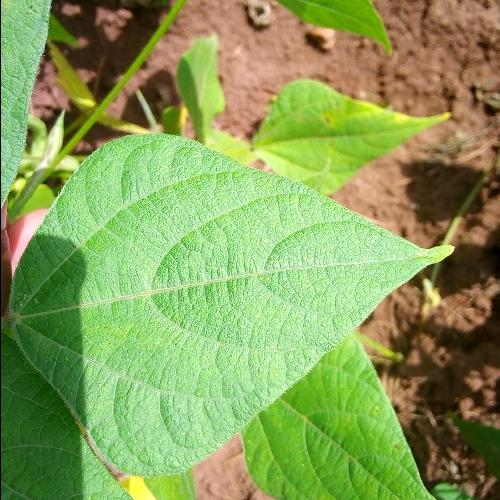mozaik: (57, 188, 271, 388)
